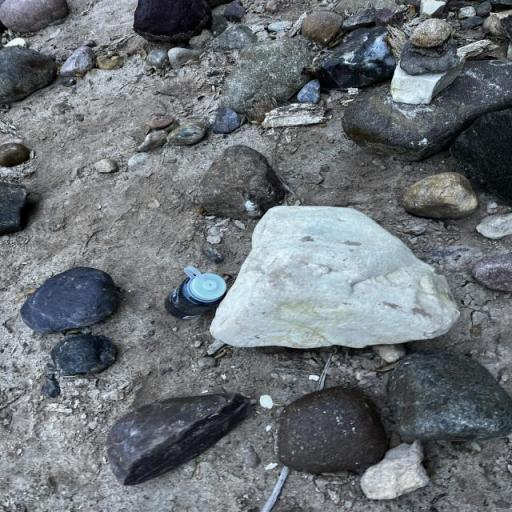bottle: (165, 266, 227, 320)
